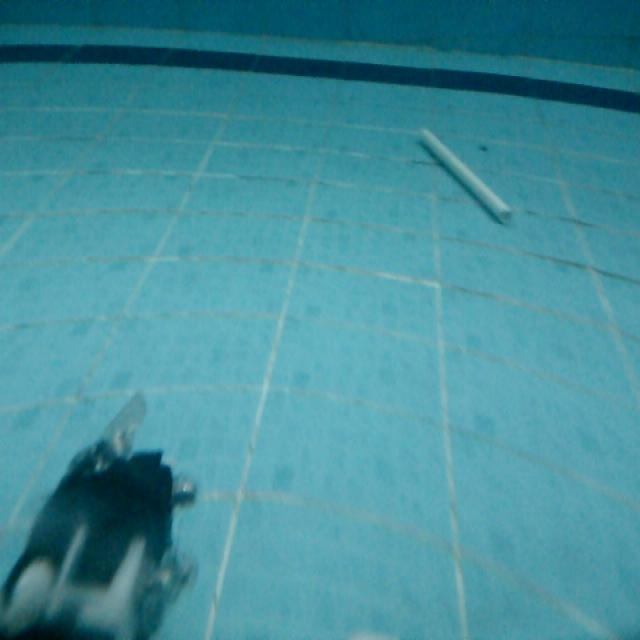Cube: (416, 125, 515, 226)
